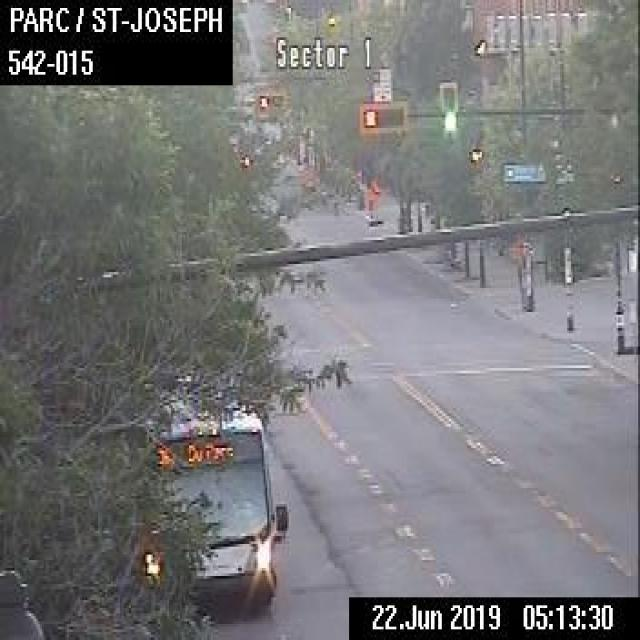bus: (140, 376, 288, 615)
